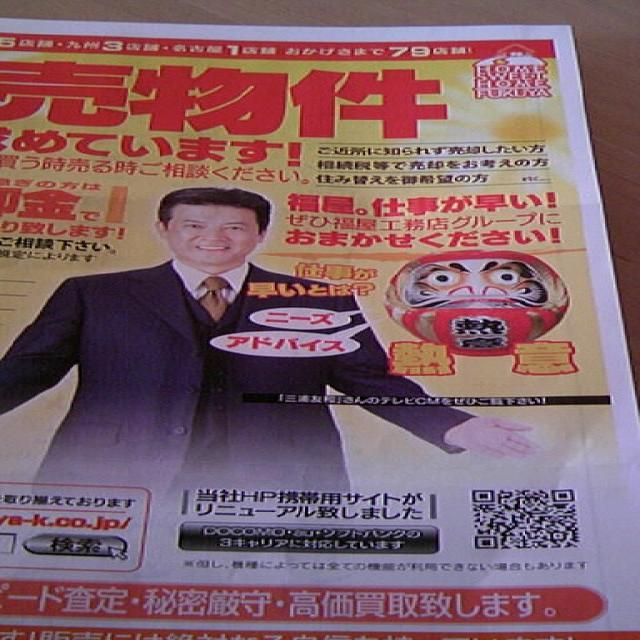qr-code: (472, 490, 578, 548)
